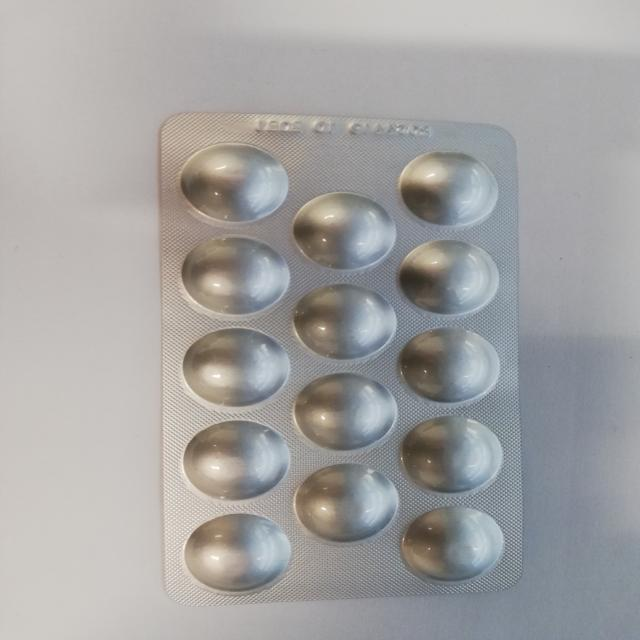Pill: (174, 135, 291, 226), (172, 230, 289, 314), (183, 512, 293, 600), (182, 320, 284, 412), (178, 424, 298, 502), (406, 504, 511, 590), (402, 414, 509, 496), (293, 461, 396, 546), (293, 371, 396, 455), (402, 324, 507, 406), (285, 193, 396, 268), (396, 148, 500, 228), (296, 286, 402, 361), (400, 242, 509, 314)
